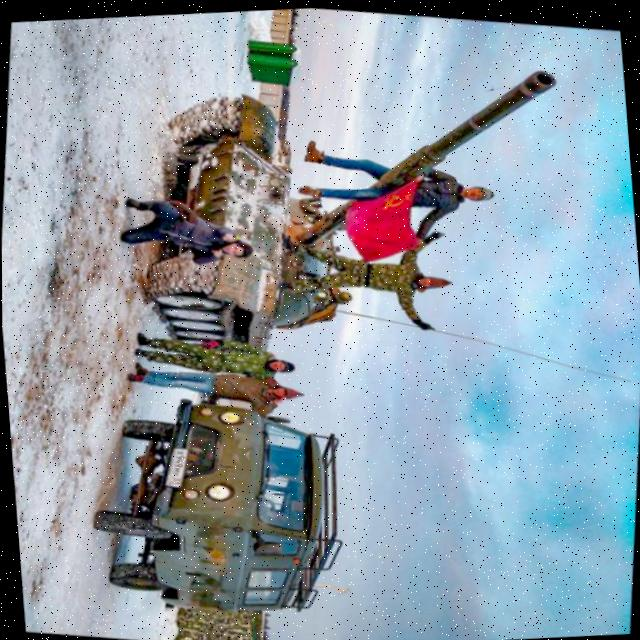rocket: (286, 36, 573, 273)
